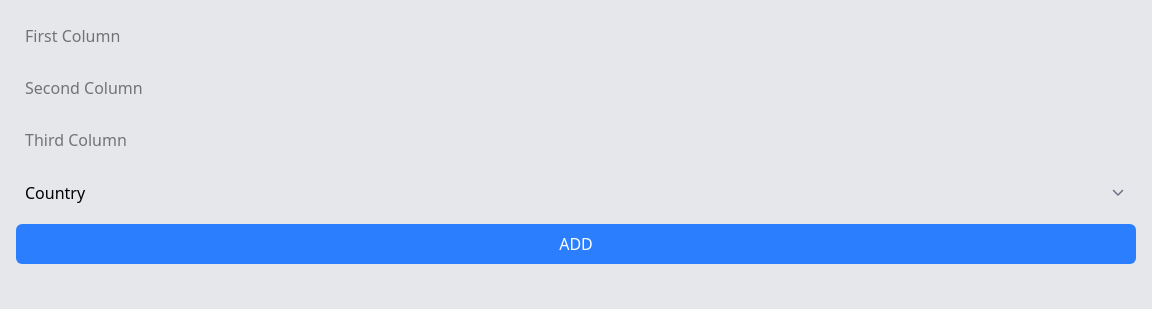
Scenario: CreateTableFormComponent › shows validation errors when only 2 fields are filled
Type "Name" into the field with placeholder "First Column" at [576, 36], box left=16, top=16, right=1136, bottom=56
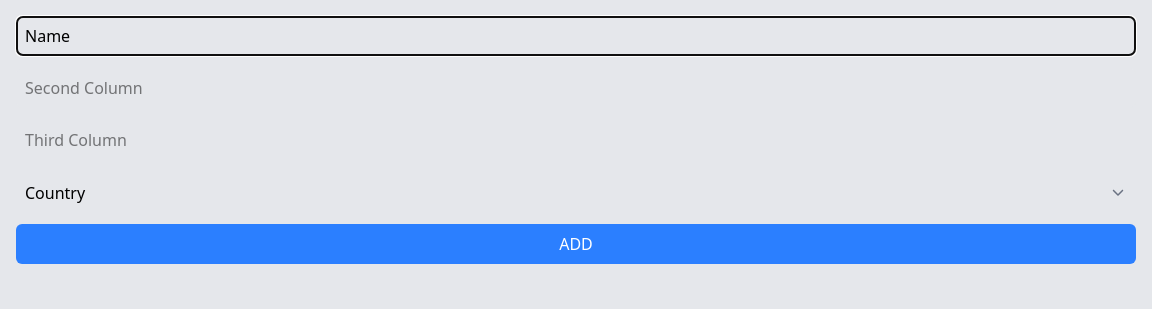
Type "Age" into the field with placeholder "Second Column" at [576, 88], box left=16, top=68, right=1136, bottom=108
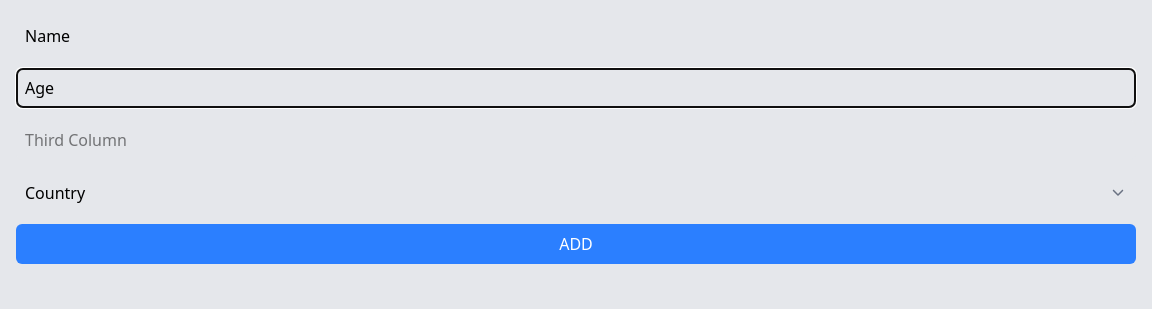
Click the button "Add" at [576, 244], box left=16, top=224, right=1136, bottom=264
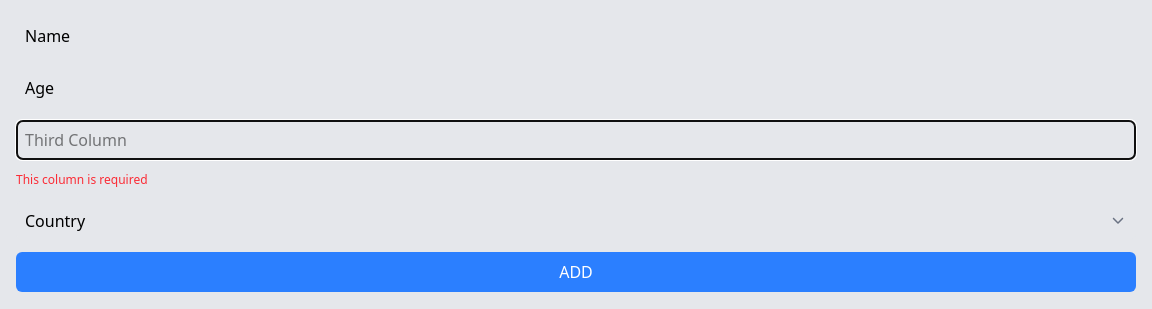
Expected: the text "This column is required" is shown once, left=16, top=171, right=148, bottom=188
